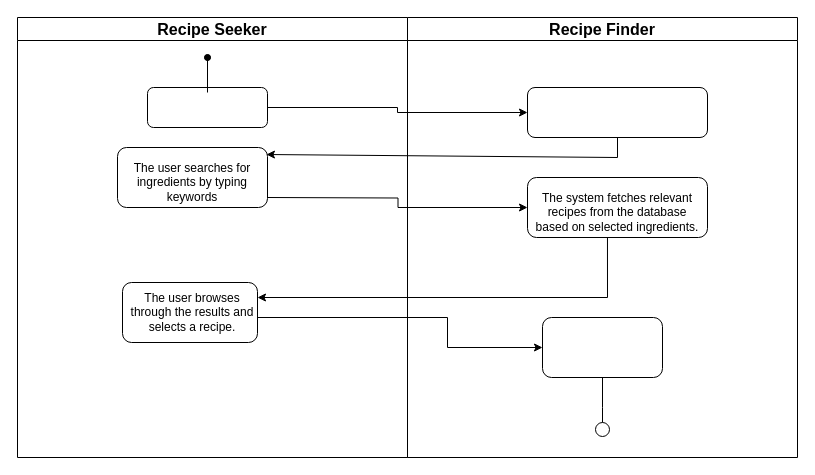
Image size: 815x475. Some labels were removed from this diagram. The shapes that lost their labels are listed below. From the top down, each one's centre as x and y in pixels, then its label:
At (x=207, y=107): "User signs up by providing credentials".
At (x=617, y=112): "The system validates the credentials and creates a new account.".
At (x=602, y=347): "The system displays recipe details".
